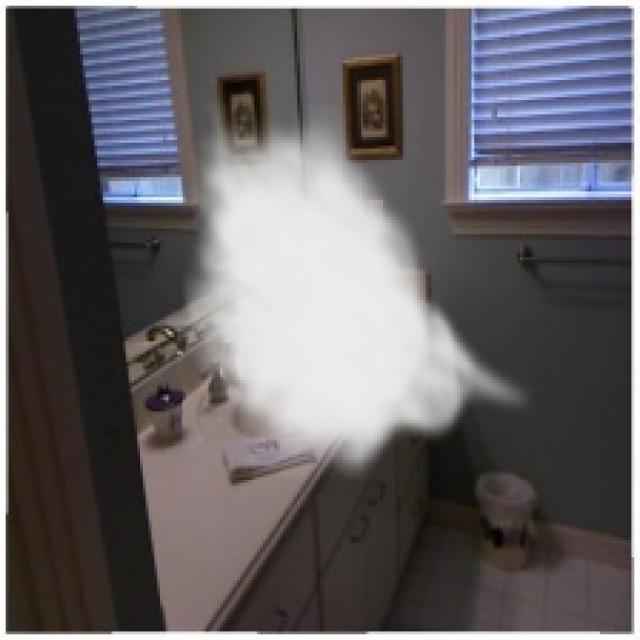Smoke: (174, 100, 537, 486)
